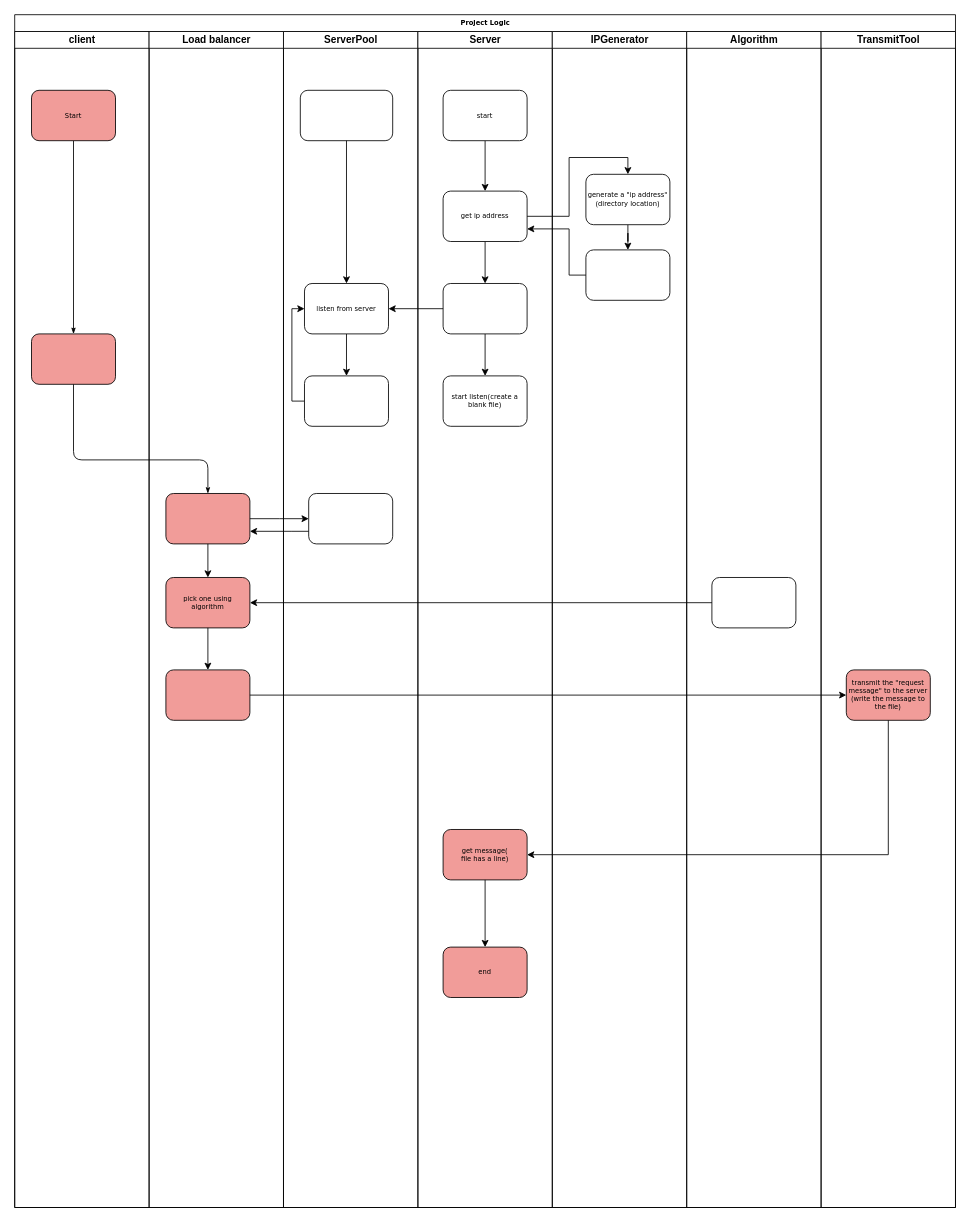
Image size: 970x1222. Some labels were removed from this diagram. The centre of each missing label's shape, as x and y in pixels:
get a server address: point (207, 694)
get server list: point (207, 518)
give the server list: point (350, 518)
initialize the server list: point (346, 115)
provide different algorithm: point (753, 602)
register itself: point (484, 308)
renew the server list: point (346, 400)
return "ip address" to server ip address(directory location): point (627, 274)
Start Sending Request (a line in a file): point (73, 358)
